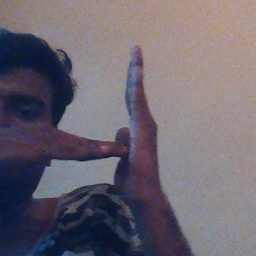Z: (63, 43, 167, 205)
